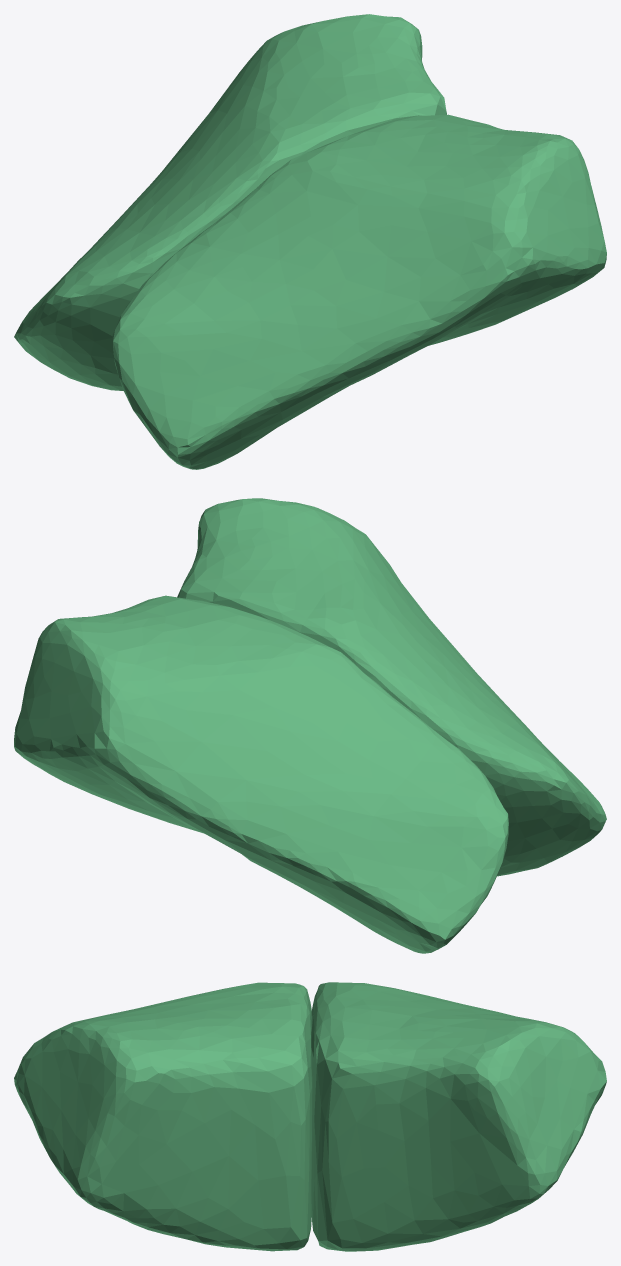
3 renders of one model, top to bottom at view 1: azimuth 30°, elevation 25°; view 2: azimuth 150°, elevation 25°; view 3: azimuth 270°, elevation 25°, orthographic. The views are drawn at different scales.
Visible parts, largest first — view 1: 972.obj; view 2: 972.obj; view 3: 972.obj.
Part boxes in pixels (bbox=[...]): 972.obj: bbox=[14, 14, 606, 469]; 972.obj: bbox=[14, 498, 606, 953]; 972.obj: bbox=[14, 982, 606, 1251].
Bounding box in the file's own units: 2119 × 1317 × 2308.
